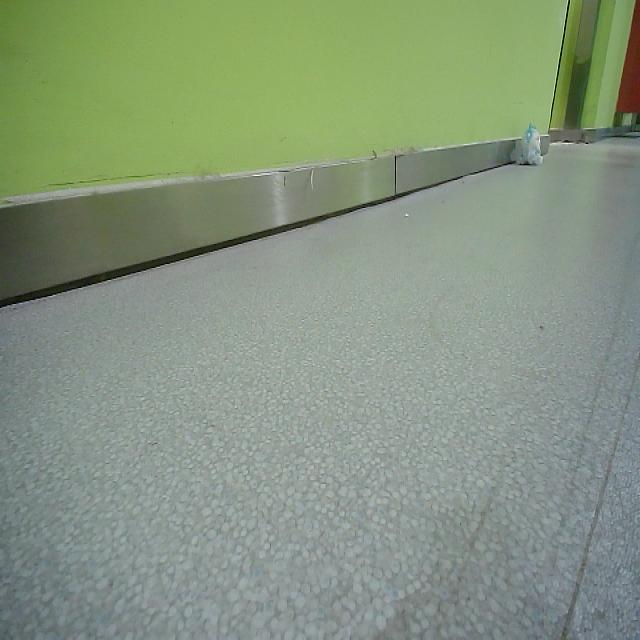xiaoba: (517, 123, 547, 172)
